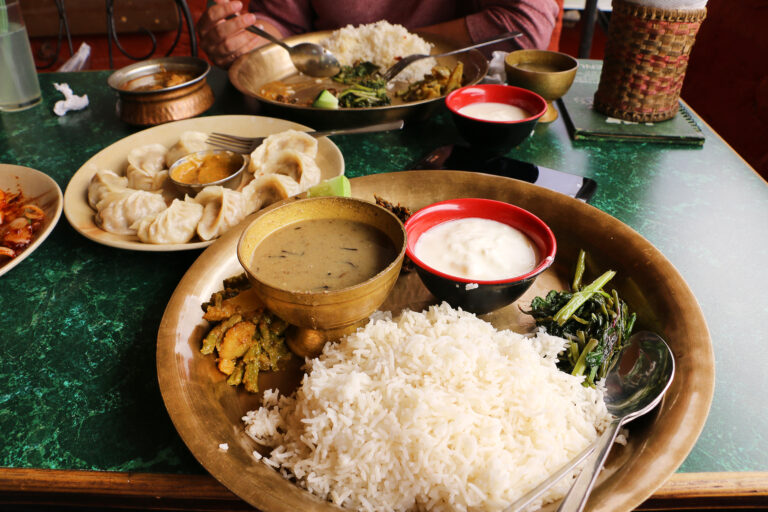bhat: (255, 306, 602, 509), (328, 33, 430, 60)
dal: (254, 217, 393, 289)
sabji: (209, 282, 283, 390), (539, 282, 629, 363)
